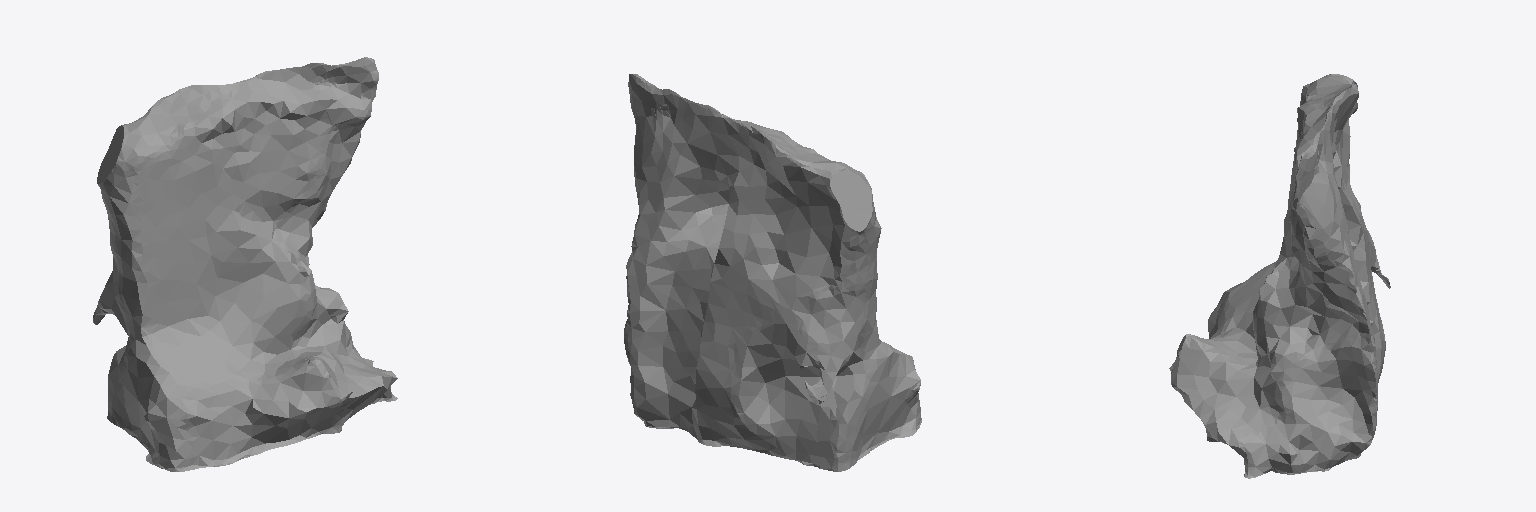
The model's file is munchkin_white_hot_duck_bath_toy.obj.
3 renders of one model, left to right at view 1: azimuth 30°, elevation 25°; view 2: azimuth 150°, elevation 25°; view 3: azimuth 270°, elevation 25°, orthographic.
Bounding box in the file's own units: 0.1568 × 0.1837 × 0.1143.